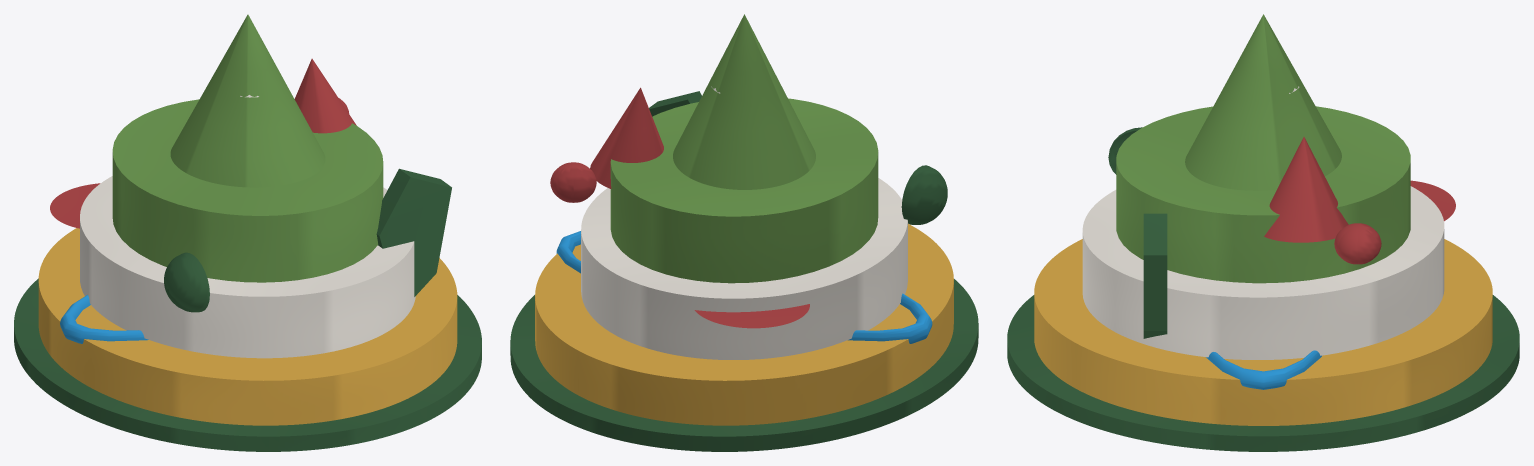
The model's file is 0909_故宫图鉴_品级山.glb.
3 renders of one model, left to right at view 1: azimuth 30°, elevation 25°; view 2: azimuth 150°, elevation 25°; view 3: azimuth 270°, elevation 25°, orthographic.
Parts seen in each view (by area): view 1: card_0909; view 2: card_0909; view 3: card_0909.
Boxes of the visible parts, x1=… form: card_0909: x1=14, y1=14, x2=481, y2=451; card_0909: x1=510, y1=14, x2=978, y2=451; card_0909: x1=1007, y1=14, x2=1519, y2=451.
Size of the model in its own units: 1.24 by 1 by 1.37.
